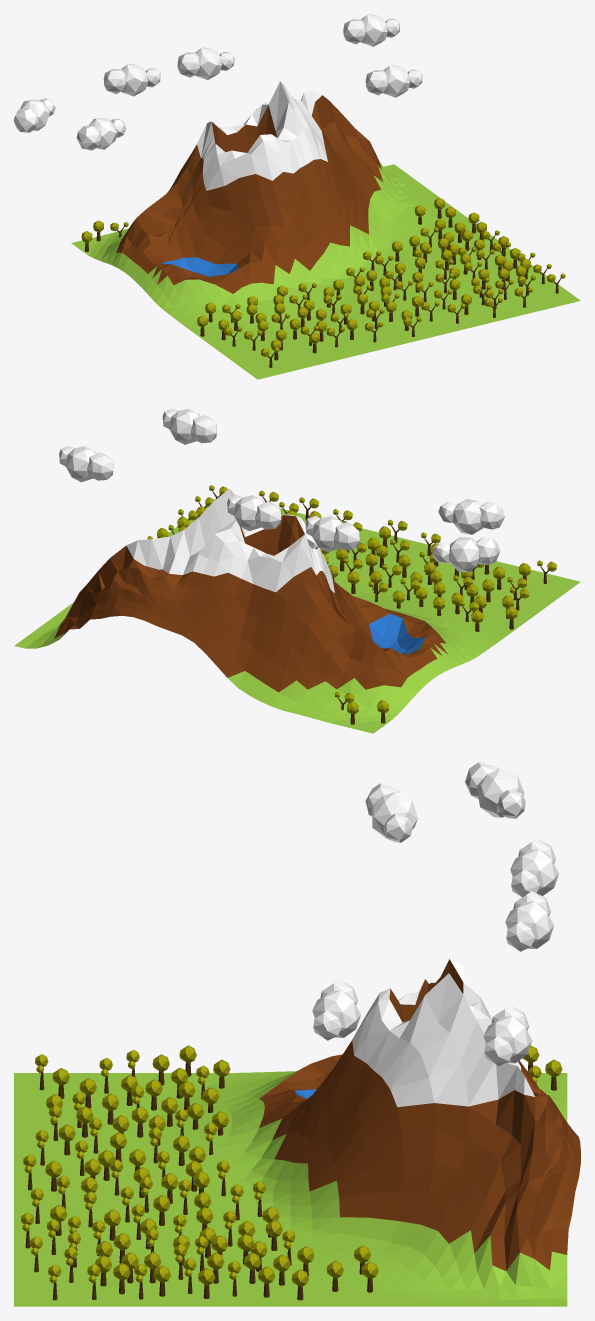
The model's file is Escenario.fbx.
The picture shows the model from 3 angles, top to bottom: view 1: azimuth 30°, elevation 25°; view 2: azimuth 150°, elevation 25°; view 3: azimuth 270°, elevation 25°; orthographic projection. The views are drawn at different scales.
Parts seen in each view (by area): view 1: Plane, Icosphere.070, Icosphere.073, Icosphere.068, Icosphere.071, Icosphere.067, Icosphere.069; view 2: Plane, Icosphere.069, Icosphere.067, Icosphere.068, Icosphere.073, Icosphere.071, Icosphere.070; view 3: Plane, Icosphere.069, Icosphere.067, Icosphere.071, Icosphere.073, Icosphere.070, Icosphere.068.
Part boxes in pixels (x1,y1,x2,y2): Plane: (71,81,580,379); Icosphere.070: (177,47,234,79); Icosphere.073: (365,65,422,97); Icosphere.068: (103,64,160,96); Icosphere.071: (343,14,399,46); Icosphere.067: (76,118,126,150); Icosphere.069: (14,98,55,132); Plane: (14,488,580,733); Icosphere.069: (432,537,500,572); Icosphere.067: (438,498,504,534); Icosphere.068: (305,515,359,551); Icosphere.073: (162,408,216,444); Icosphere.071: (59,445,113,482); Icosphere.070: (227,494,281,531); Plane: (14,959,580,1306); Icosphere.069: (465,762,525,818); Icosphere.067: (365,783,417,842); Icosphere.071: (483,1005,532,1066); Icosphere.073: (312,980,360,1040); Icosphere.070: (505,891,553,951); Icosphere.068: (510,839,558,897).
Bounding box in the file's own units: 2153 × 888 × 1753.
